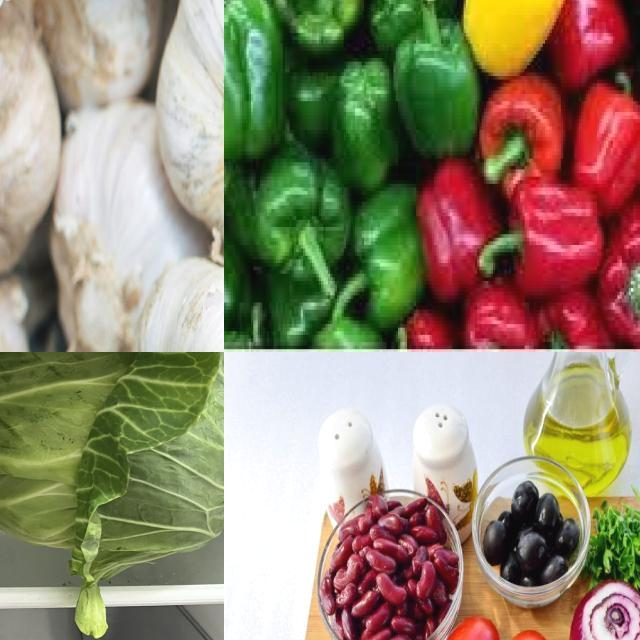bell_pepper: (255, 160, 354, 317), (392, 1, 483, 156), (225, 1, 289, 221)
cabbage: (1, 353, 225, 640)
garlic: (157, 1, 225, 247)
onion: (573, 588, 640, 640)
tomato: (441, 617, 496, 640), (502, 621, 553, 640)
